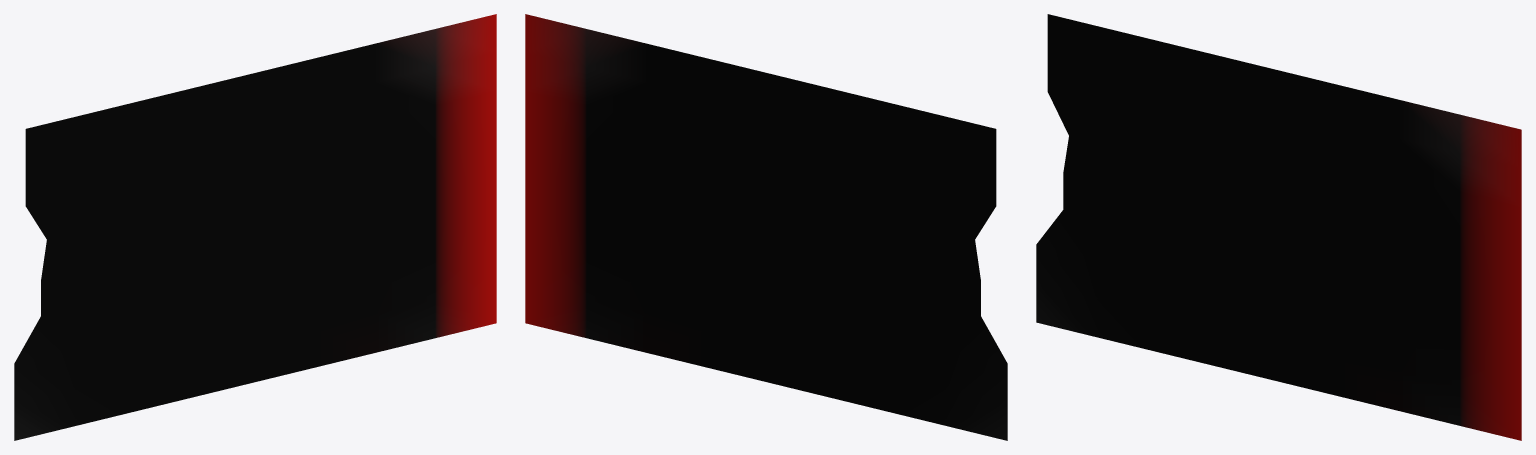
The model's file is HQ_V1_FlagTop.fbx.
The picture shows the model from 3 angles, left to right: view 1: azimuth 30°, elevation 25°; view 2: azimuth 150°, elevation 25°; view 3: azimuth 330°, elevation 25°; orthographic projection.
Visible parts, largest first — view 1: Plane.005; view 2: Plane.005; view 3: Plane.005.
Boxes of the visible parts, x1=… form: Plane.005: x1=14, y1=14, x2=496, y2=440; Plane.005: x1=525, y1=14, x2=1007, y2=440; Plane.005: x1=1036, y1=14, x2=1521, y2=440.
Bounding box in the file's own units: 1.83 × 1.12 × 1.08e-07.
